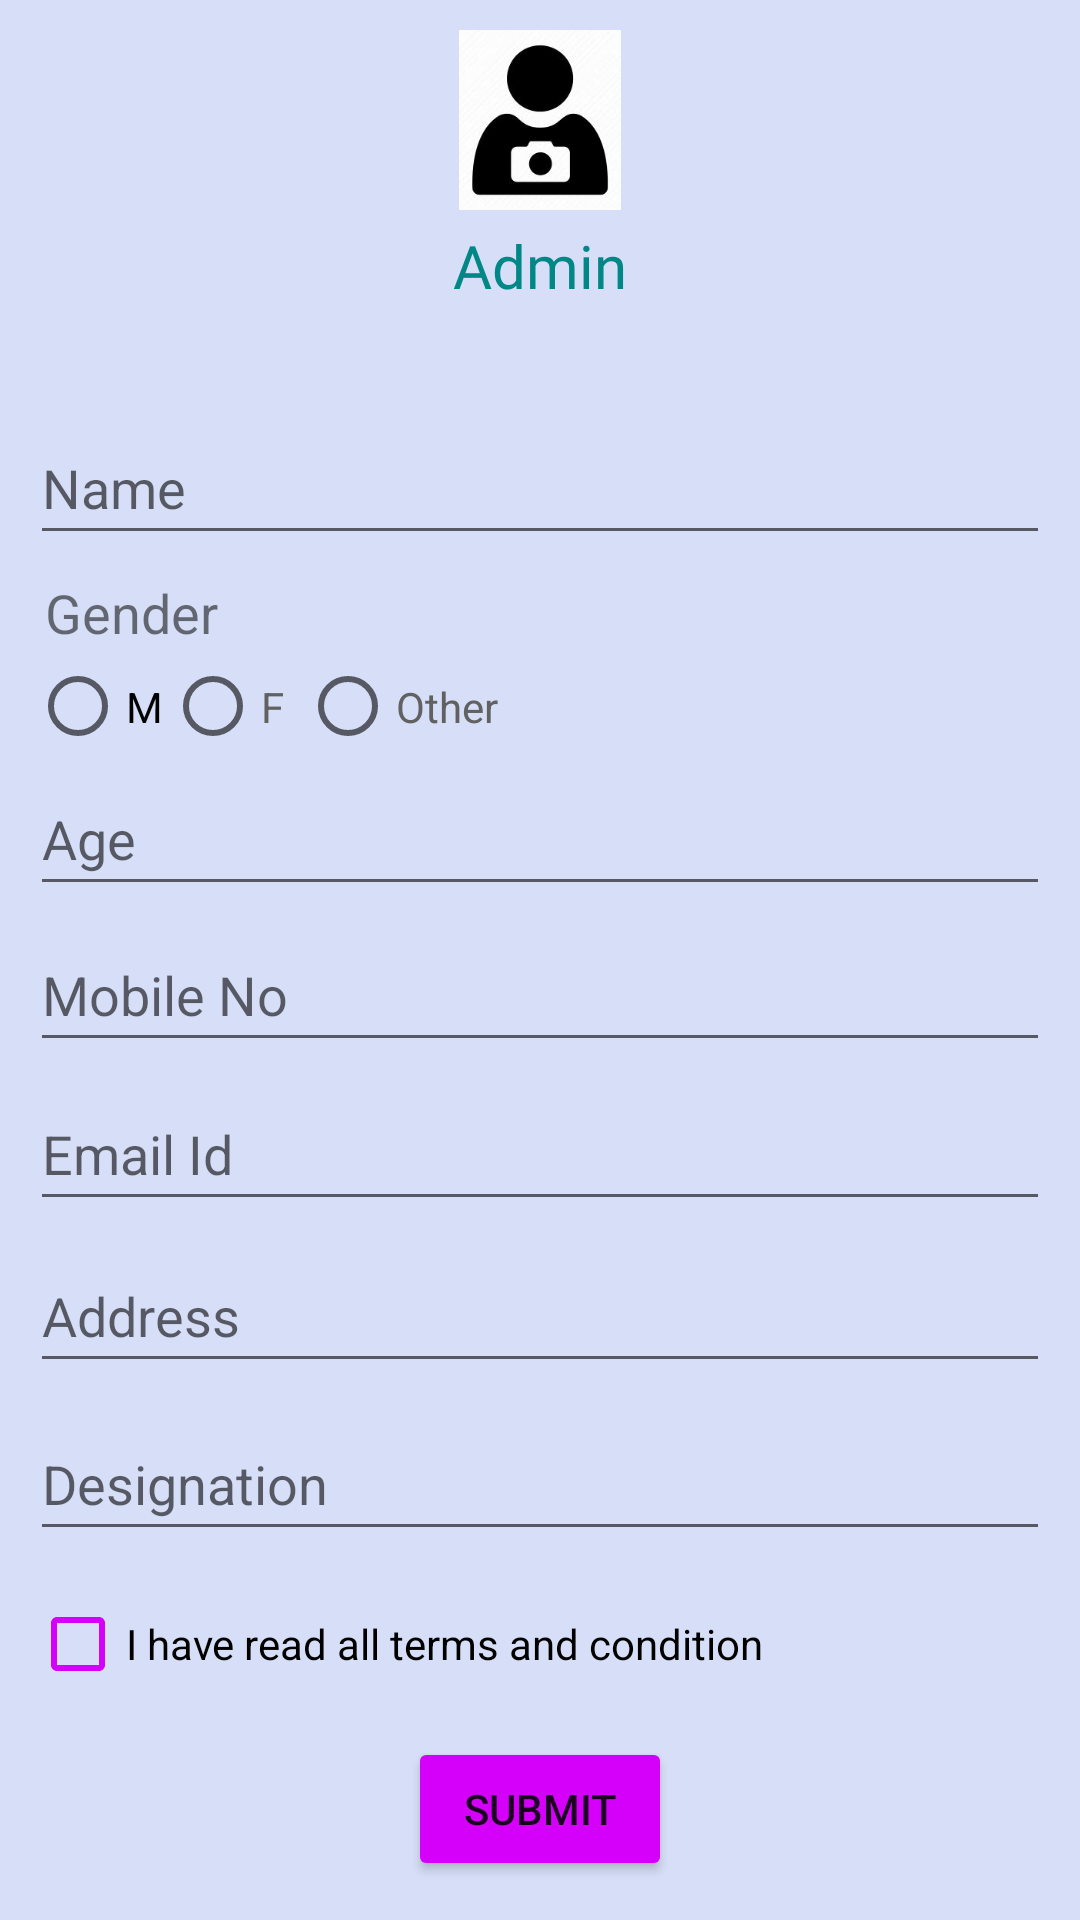

Where icons sit on this 1080x1920 app screen, as (x1, y1, x2, y2):
cmra: (459, 30, 621, 210)
